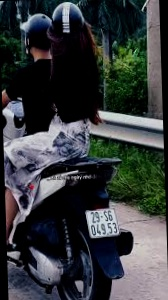Bien-so: (80, 197, 119, 229)
